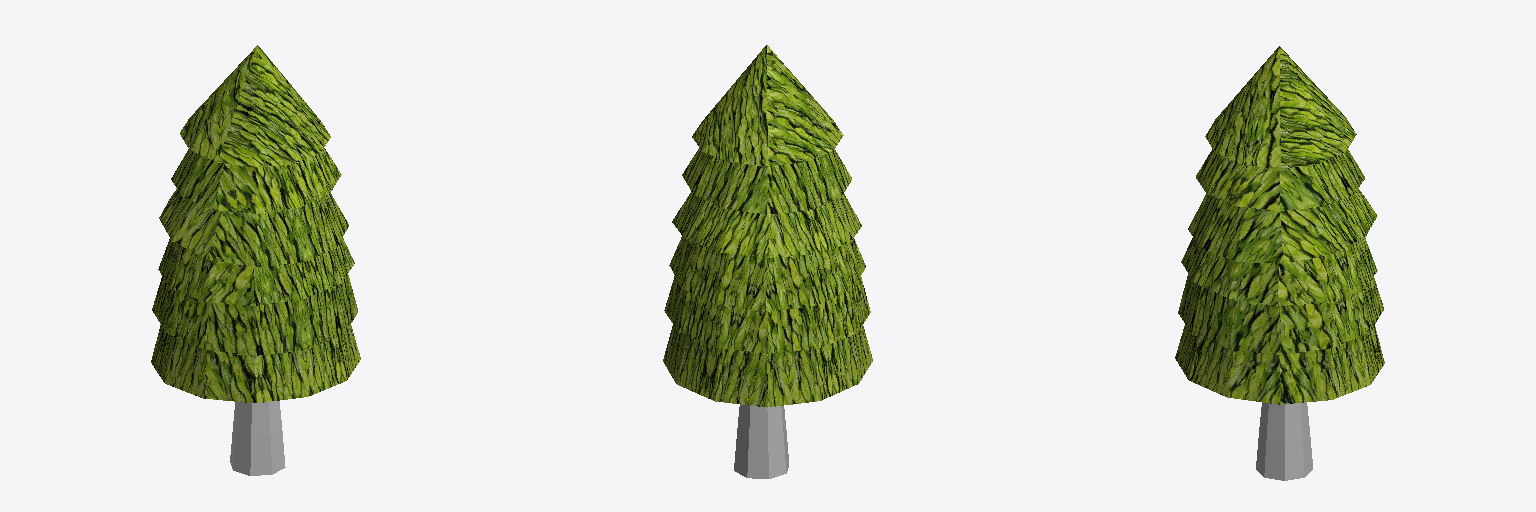
3 views of the same model, side by side, from view 1: azimuth 30°, elevation 25°; view 2: azimuth 150°, elevation 25°; view 3: azimuth 270°, elevation 25° (orthographic).
Parts seen in each view (by area): view 1: leafs.001_Cylinder.002, trunk.002_Cylinder.001; view 2: leafs.001_Cylinder.002, trunk.002_Cylinder.001; view 3: leafs.001_Cylinder.002, trunk.002_Cylinder.001.
Boxes of the visible parts, <box> form: leafs.001_Cylinder.002: <box>151,45,360,402</box>; trunk.002_Cylinder.001: <box>230,401,285,475</box>; leafs.001_Cylinder.002: <box>663,45,872,407</box>; trunk.002_Cylinder.001: <box>734,404,788,478</box>; leafs.001_Cylinder.002: <box>1175,46,1384,404</box>; trunk.002_Cylinder.001: <box>1256,402,1312,480</box>.
Bounding box in the file's own units: 3.21 × 7.09 × 3.2.
2 materials, 1 textured.